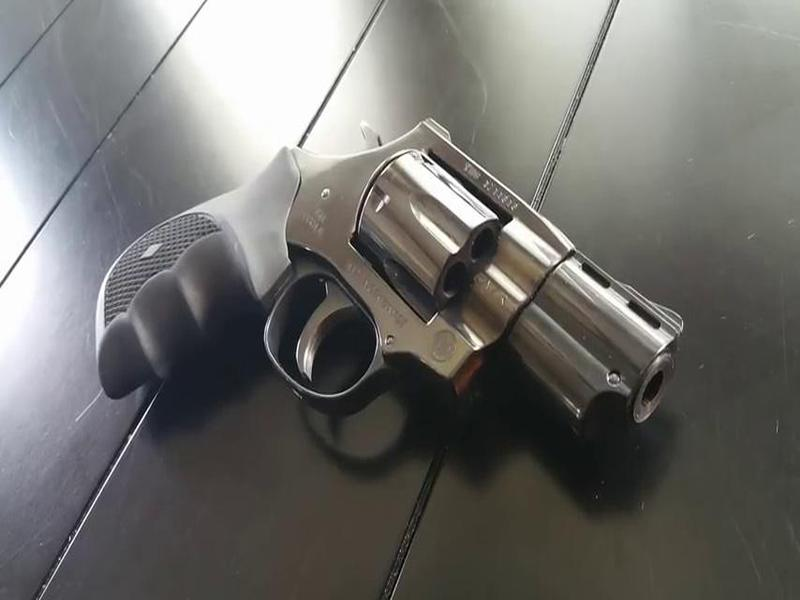Revolver: (103, 84, 684, 497)
